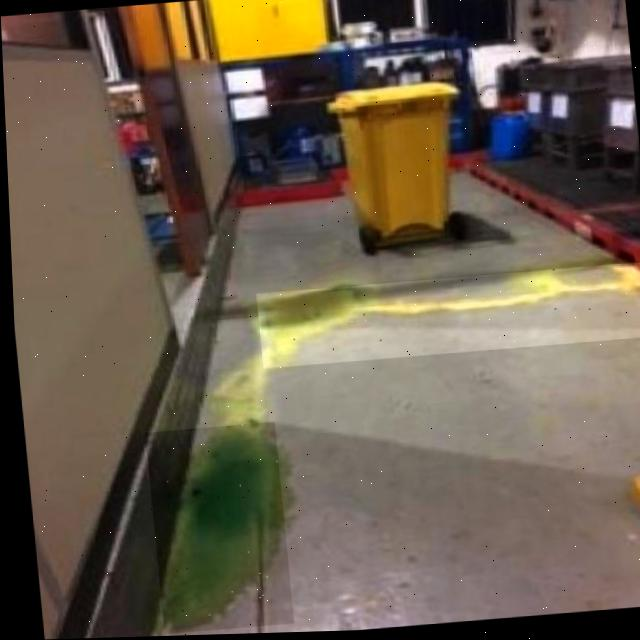spillage: (257, 267, 640, 370), (156, 427, 274, 634)
